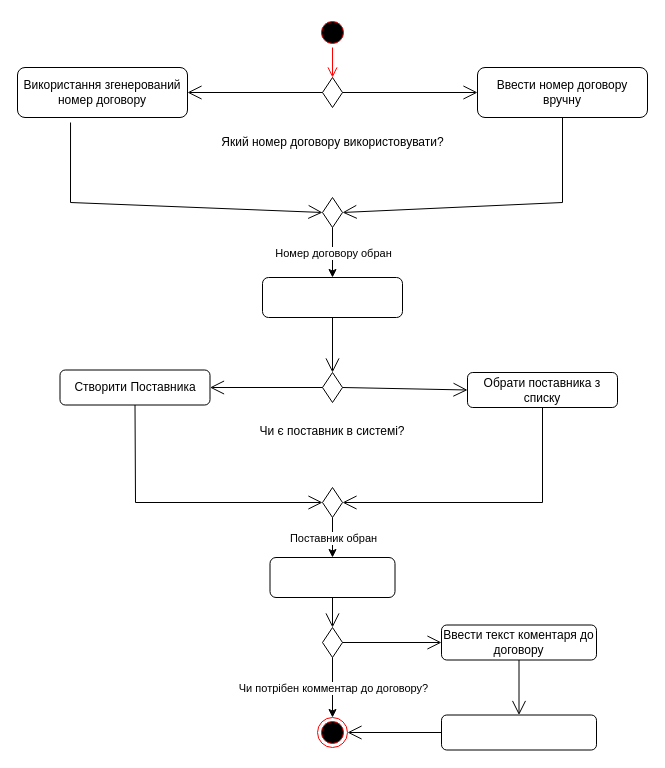
The diagram is 665 pixels wide and 768 high, and some of its shapes have lost their labels. The centre of each missing label's shape, as x and y in pixels:
Ввести назву договору: [332,577]
Ввод дати заключення договору: [332,297]
Зберегти створенний договір: [518,732]
